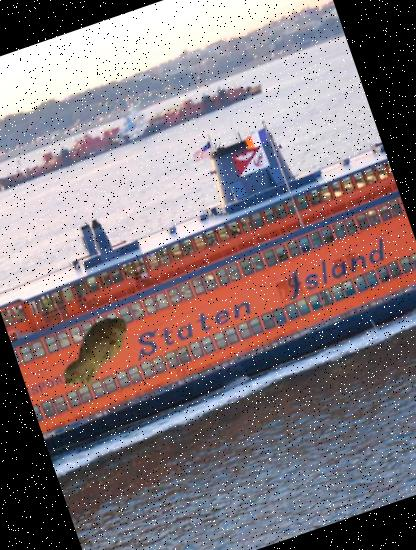Ginger: (39, 294, 153, 408)
